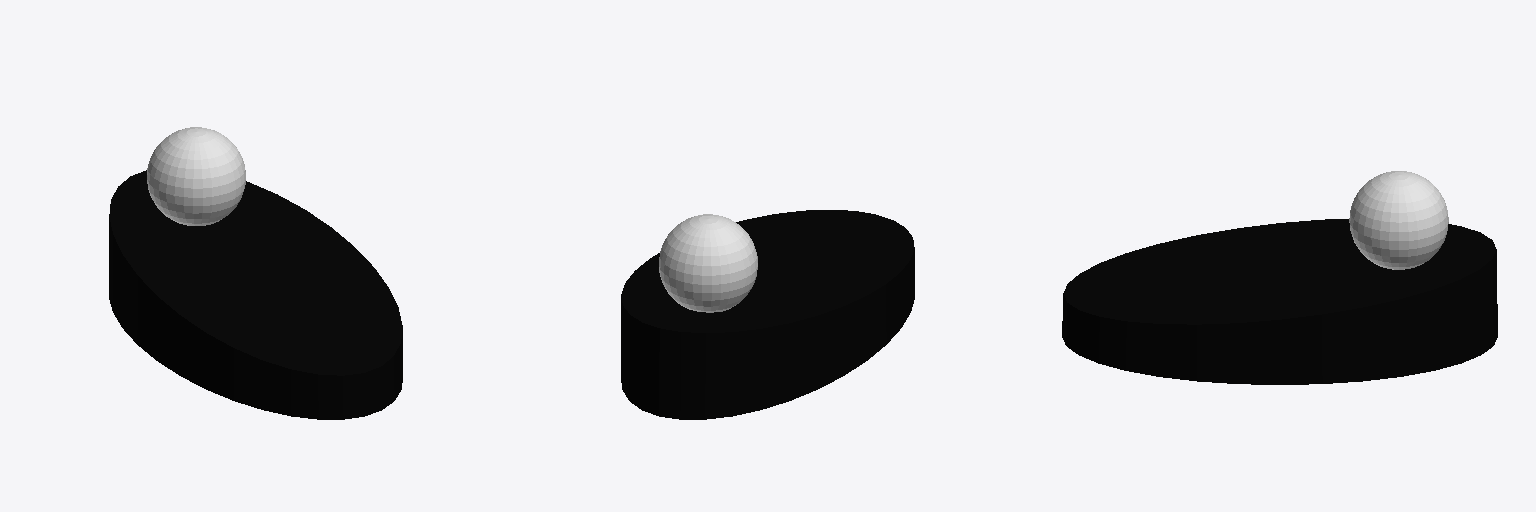
Rendered from shining_sphere_on_the_floor.obj.
The picture shows the model from 3 angles: view 1: azimuth 30°, elevation 25°; view 2: azimuth 150°, elevation 25°; view 3: azimuth 270°, elevation 25°; orthographic projection.
Visible parts, largest first — view 1: Цилиндр; view 2: Цилиндр; view 3: Цилиндр.
Part boxes in pixels (x1,y1,x2,y2): Цилиндр: (109, 127, 402, 419); Цилиндр: (621, 210, 914, 419); Цилиндр: (1062, 171, 1497, 384).
Size of the model in its own units: 2 by 1.56 by 3.81.